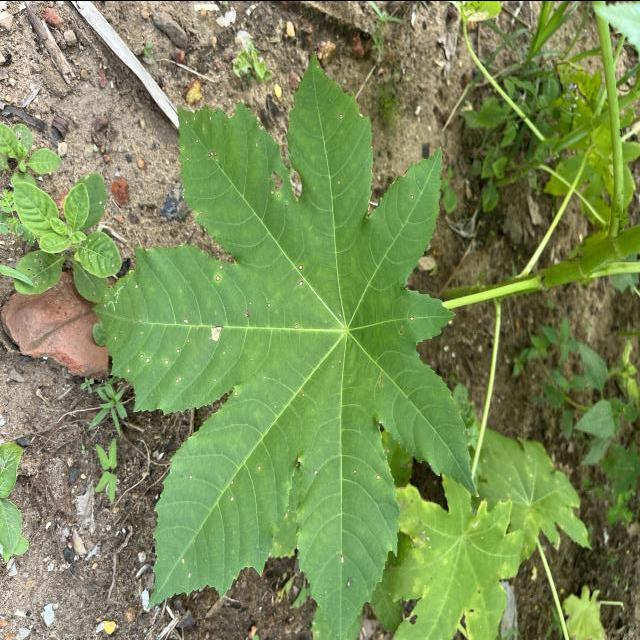Ricinus communis linn: (88, 46, 485, 640)
